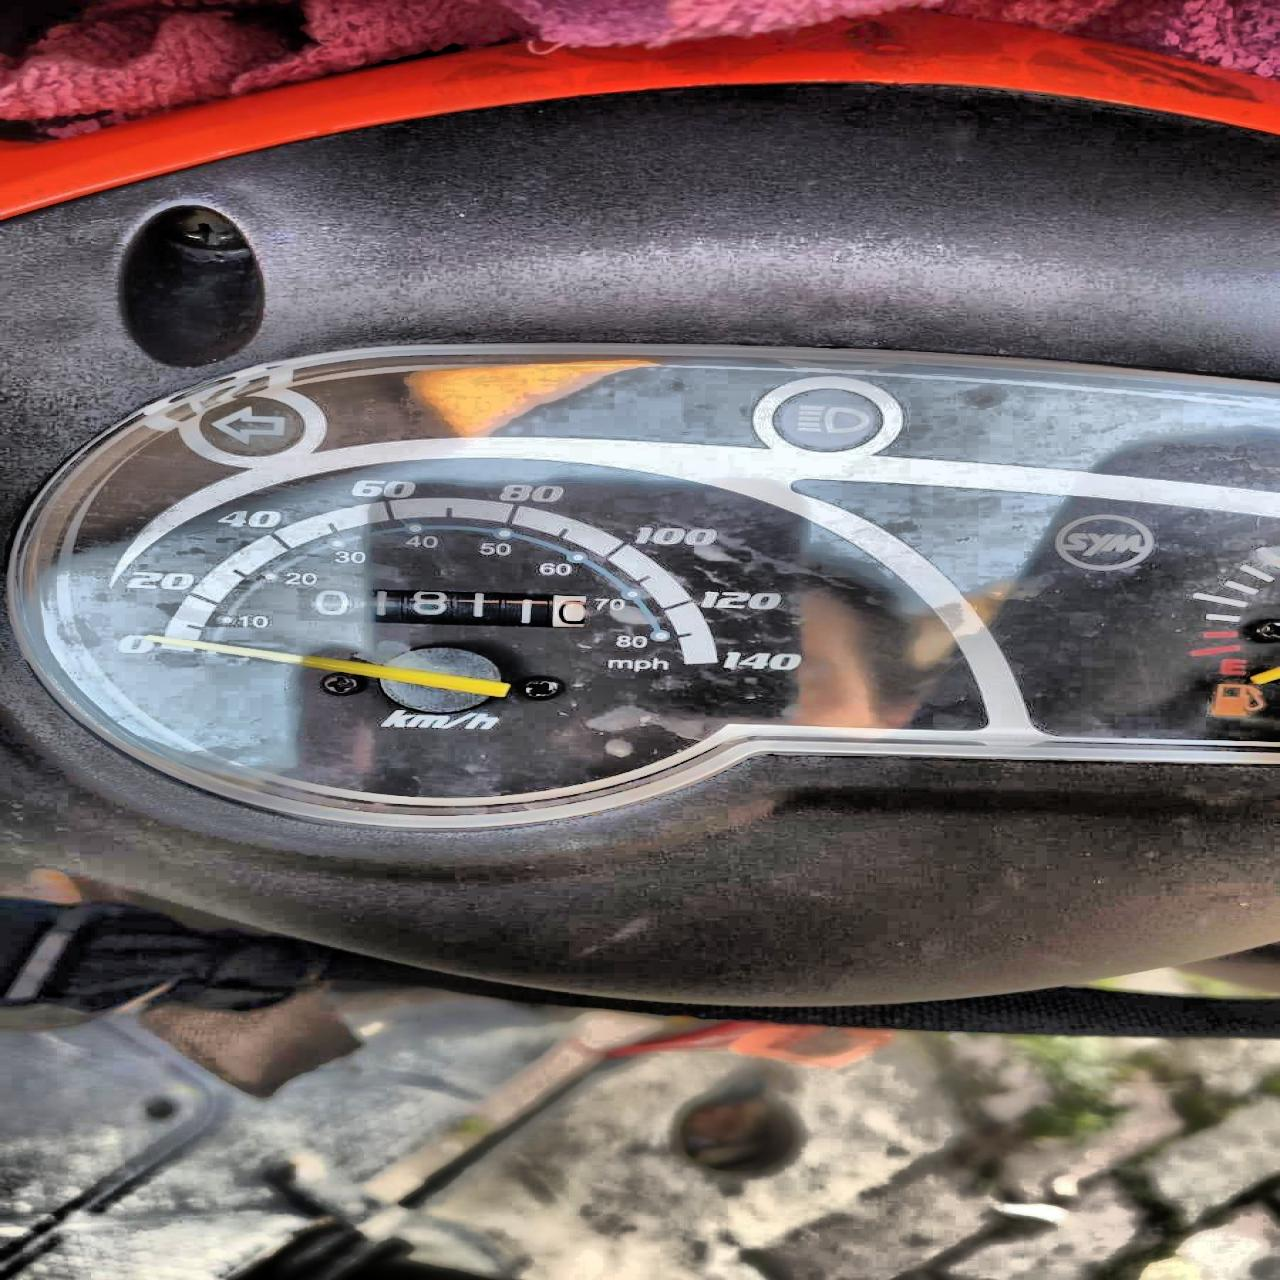0: (312, 588, 348, 617), (553, 599, 586, 624)
1: (465, 591, 489, 619), (369, 590, 393, 617), (515, 595, 535, 625)
8: (409, 591, 449, 615)
odometer: (280, 581, 592, 629)
